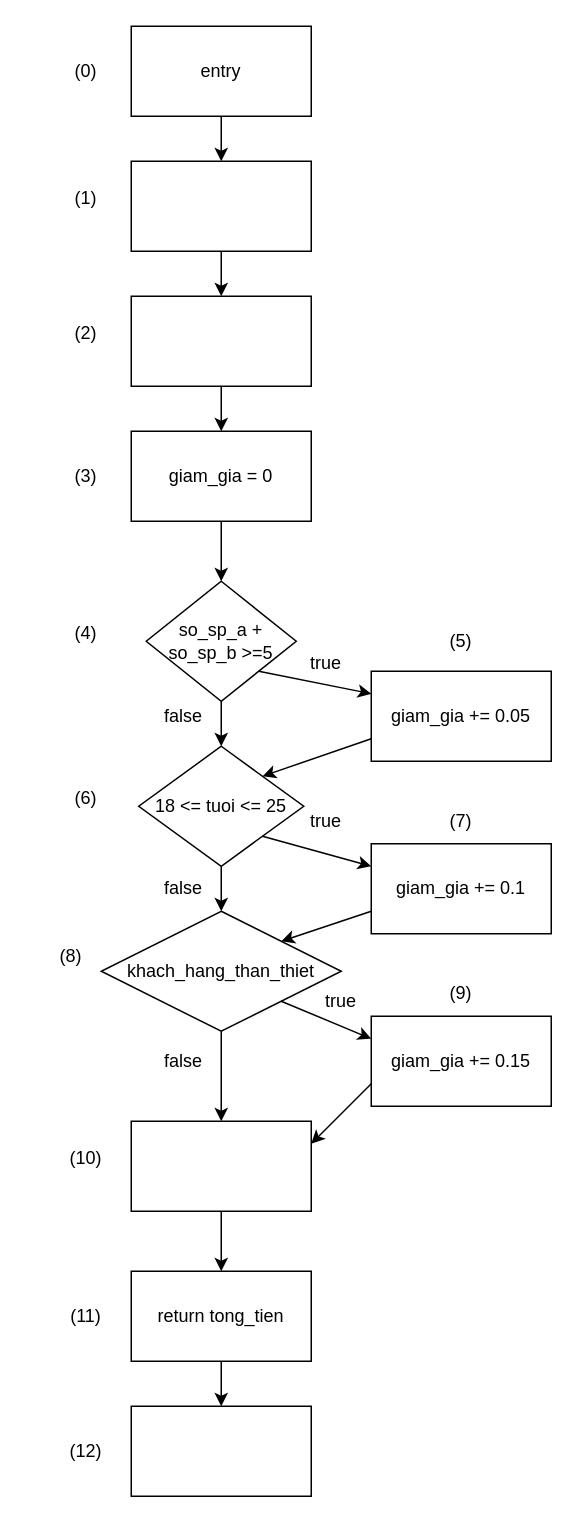
Image size: 578x1523. Some labels were removed from this diagram. The shapes that lost their labels are listed below. From the top down, each one's centre as x and y in pixels, then its label:
At (220,205): "gia_sp_a = 5, gia_sp_b = 8".
At (220,340): "tong_tien = (so_sp_a * gia_sp_a) + (so_sp_b * gia_sp_b)".
At (220,1165): "tong_tien *= (1 - giam_gia)".
At (220,1450): "exit".
